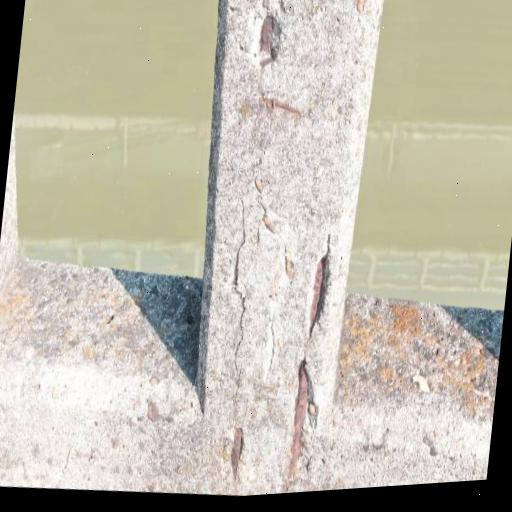exposed_rebar: (289, 360, 309, 474), (289, 361, 309, 470), (310, 258, 326, 329), (259, 16, 281, 55), (231, 428, 243, 478)
